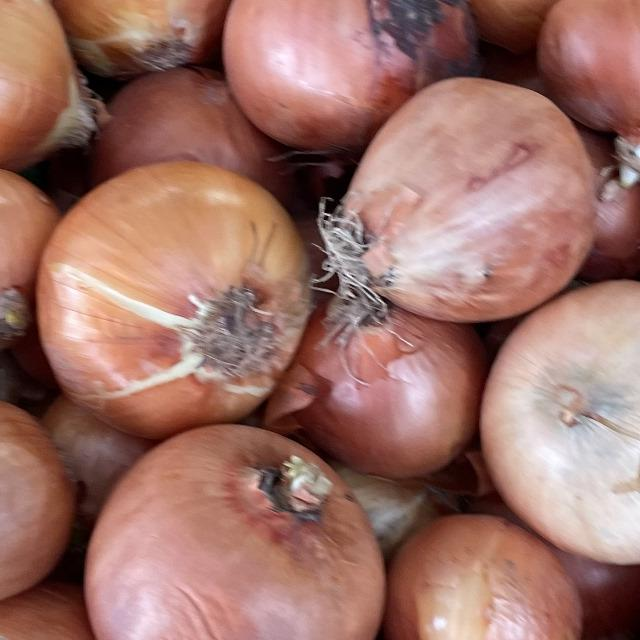onion: (28, 155, 328, 445), (65, 417, 400, 640), (475, 270, 640, 572), (0, 377, 82, 627)
